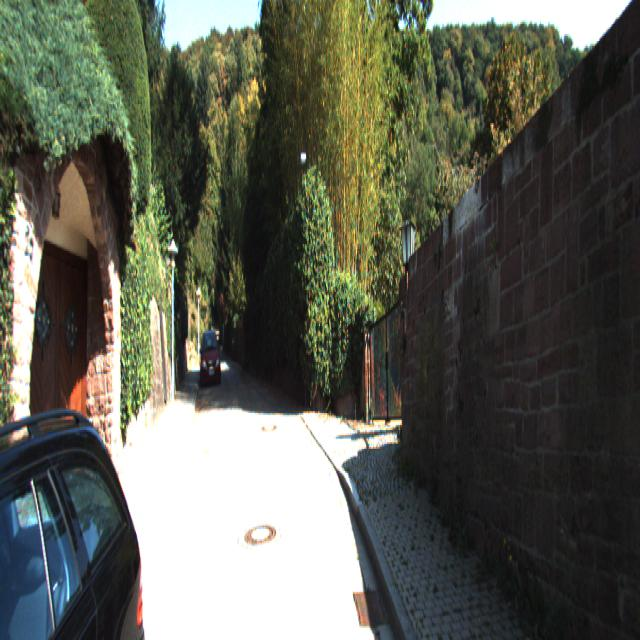Car: (0, 377, 149, 639), (202, 330, 222, 392)
